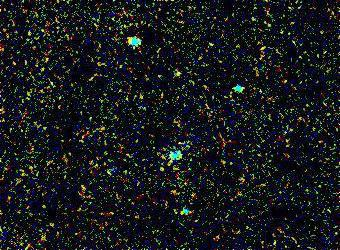star: (37, 208, 67, 238)
